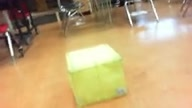cube: (65, 43, 128, 108)
